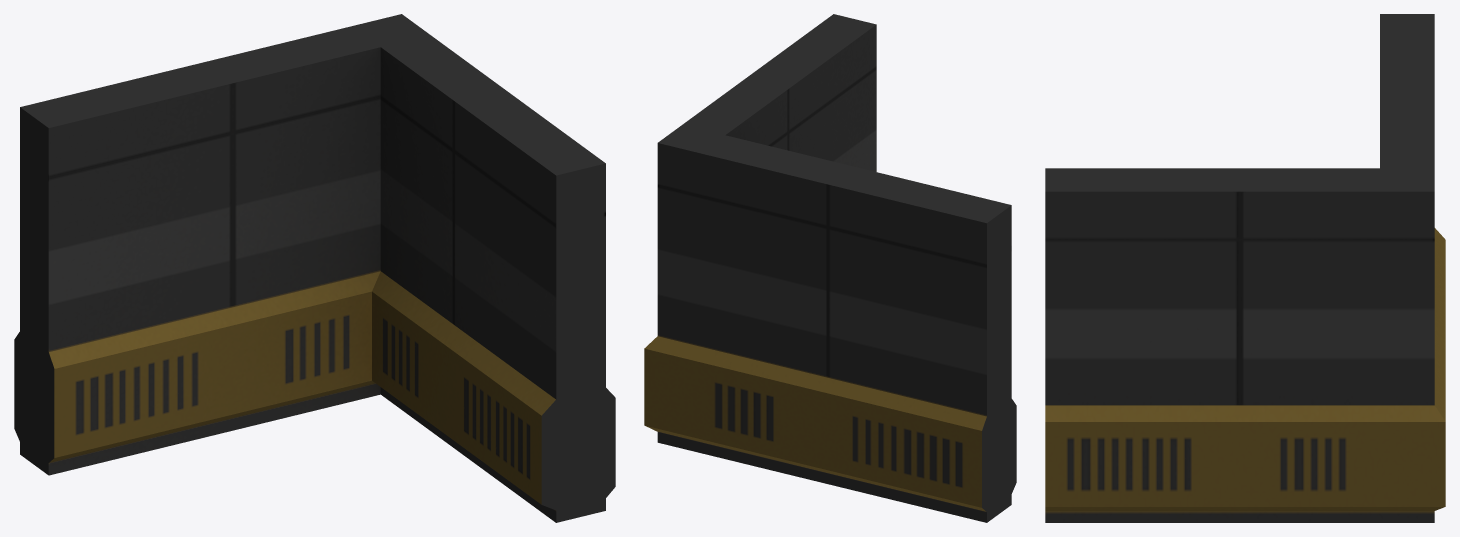
File: Corner_03.fbx
The picture shows the model from 3 angles, left to right: view 1: azimuth 30°, elevation 25°; view 2: azimuth 150°, elevation 25°; view 3: azimuth 270°, elevation 25°; orthographic projection. The views are drawn at different scales.
Parts seen in each view (by area): view 1: Corner_03 Low Poly; view 2: Corner_03 Low Poly; view 3: Corner_03 Low Poly.
Boxes of the visible parts, <box> form: Corner_03 Low Poly: <box>14,14,615,522</box>; Corner_03 Low Poly: <box>644,14,1016,522</box>; Corner_03 Low Poly: <box>1045,14,1445,522</box>.
Size of the model in its own units: 236 by 200 by 219.
Materials: 1 (1 with a texture image).
